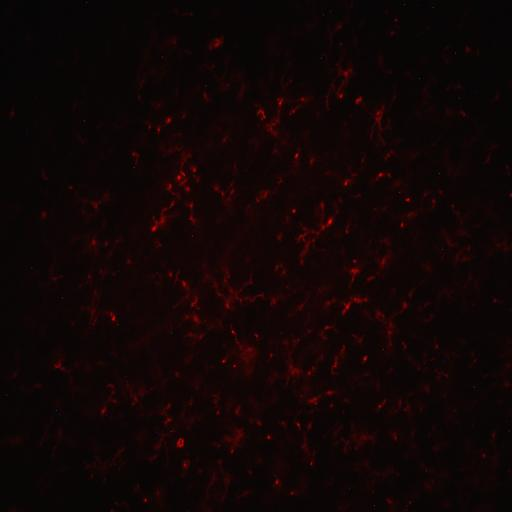microglia: (256, 85, 313, 146), (293, 198, 342, 266), (137, 27, 177, 110), (210, 261, 264, 317), (348, 89, 397, 147), (194, 56, 253, 100), (466, 426, 504, 490), (434, 213, 477, 268), (398, 183, 446, 231), (47, 344, 88, 400), (222, 322, 263, 378), (204, 112, 247, 160), (201, 455, 237, 512), (436, 267, 484, 309), (84, 444, 129, 487), (78, 288, 120, 334), (324, 51, 356, 111), (244, 171, 284, 217), (374, 300, 408, 354), (73, 186, 120, 224), (352, 460, 399, 497), (277, 348, 317, 390), (75, 218, 113, 261), (206, 178, 240, 224), (40, 418, 78, 458), (143, 199, 178, 242), (364, 235, 396, 282), (376, 388, 414, 427), (333, 424, 380, 454), (408, 81, 440, 125), (383, 140, 422, 176), (170, 272, 206, 310), (289, 386, 339, 413), (405, 256, 436, 298), (231, 396, 274, 426), (173, 146, 199, 195), (265, 458, 288, 512), (420, 458, 452, 496), (334, 158, 365, 197), (402, 340, 436, 374), (123, 377, 151, 418), (337, 287, 371, 320), (298, 421, 321, 469), (273, 201, 298, 243), (104, 232, 135, 265), (348, 367, 382, 397), (174, 399, 205, 431), (138, 116, 176, 142), (348, 331, 374, 368), (218, 424, 250, 454), (282, 138, 306, 176), (387, 431, 419, 459), (486, 360, 512, 393), (98, 381, 119, 421), (342, 258, 366, 292), (38, 261, 65, 291), (150, 433, 176, 461), (311, 284, 337, 312), (487, 229, 512, 258), (121, 138, 142, 172), (179, 197, 202, 228), (285, 296, 307, 325), (206, 386, 227, 416), (430, 362, 452, 390), (155, 396, 175, 426), (328, 346, 348, 376), (181, 328, 208, 350), (306, 142, 327, 170), (324, 21, 342, 53), (439, 106, 469, 125), (266, 286, 291, 308), (94, 265, 117, 288), (368, 166, 392, 188), (176, 309, 205, 327), (415, 298, 433, 327), (166, 174, 184, 202), (270, 258, 290, 282), (206, 34, 224, 60), (171, 436, 193, 456), (176, 459, 195, 481), (482, 143, 500, 166), (318, 322, 338, 342), (344, 214, 356, 242), (37, 204, 50, 222)
